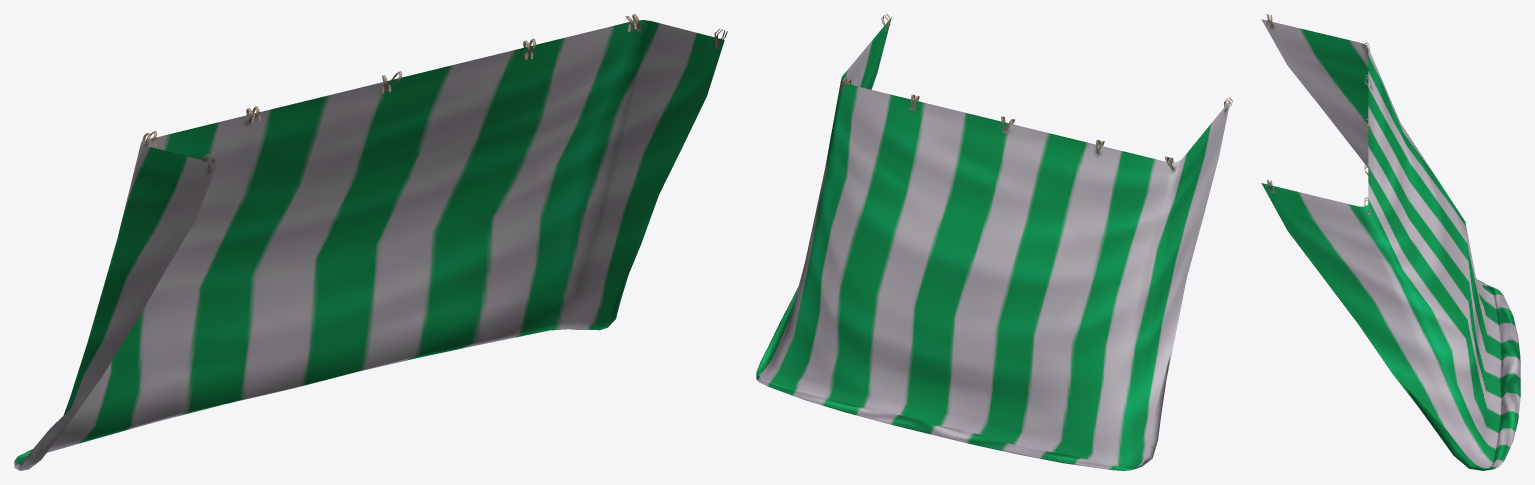
File: jsf_BackSide_s02_c05_t02.fbx
3 renders of one model, left to right at view 1: azimuth 30°, elevation 25°; view 2: azimuth 150°, elevation 25°; view 3: azimuth 270°, elevation 25°, orthographic. The views are drawn at different scales.
Visible parts, largest first — view 1: jsf_BackSide_s02_c05_t02; view 2: jsf_BackSide_s02_c05_t02; view 3: jsf_BackSide_s02_c05_t02.
Part boxes in pixels (box(x1,y1,x2,y2)): jsf_BackSide_s02_c05_t02: box(14, 14, 727, 470); jsf_BackSide_s02_c05_t02: box(756, 14, 1232, 470); jsf_BackSide_s02_c05_t02: box(1261, 14, 1520, 470).
Size of the model in its own units: 296 by 205 by 171.
